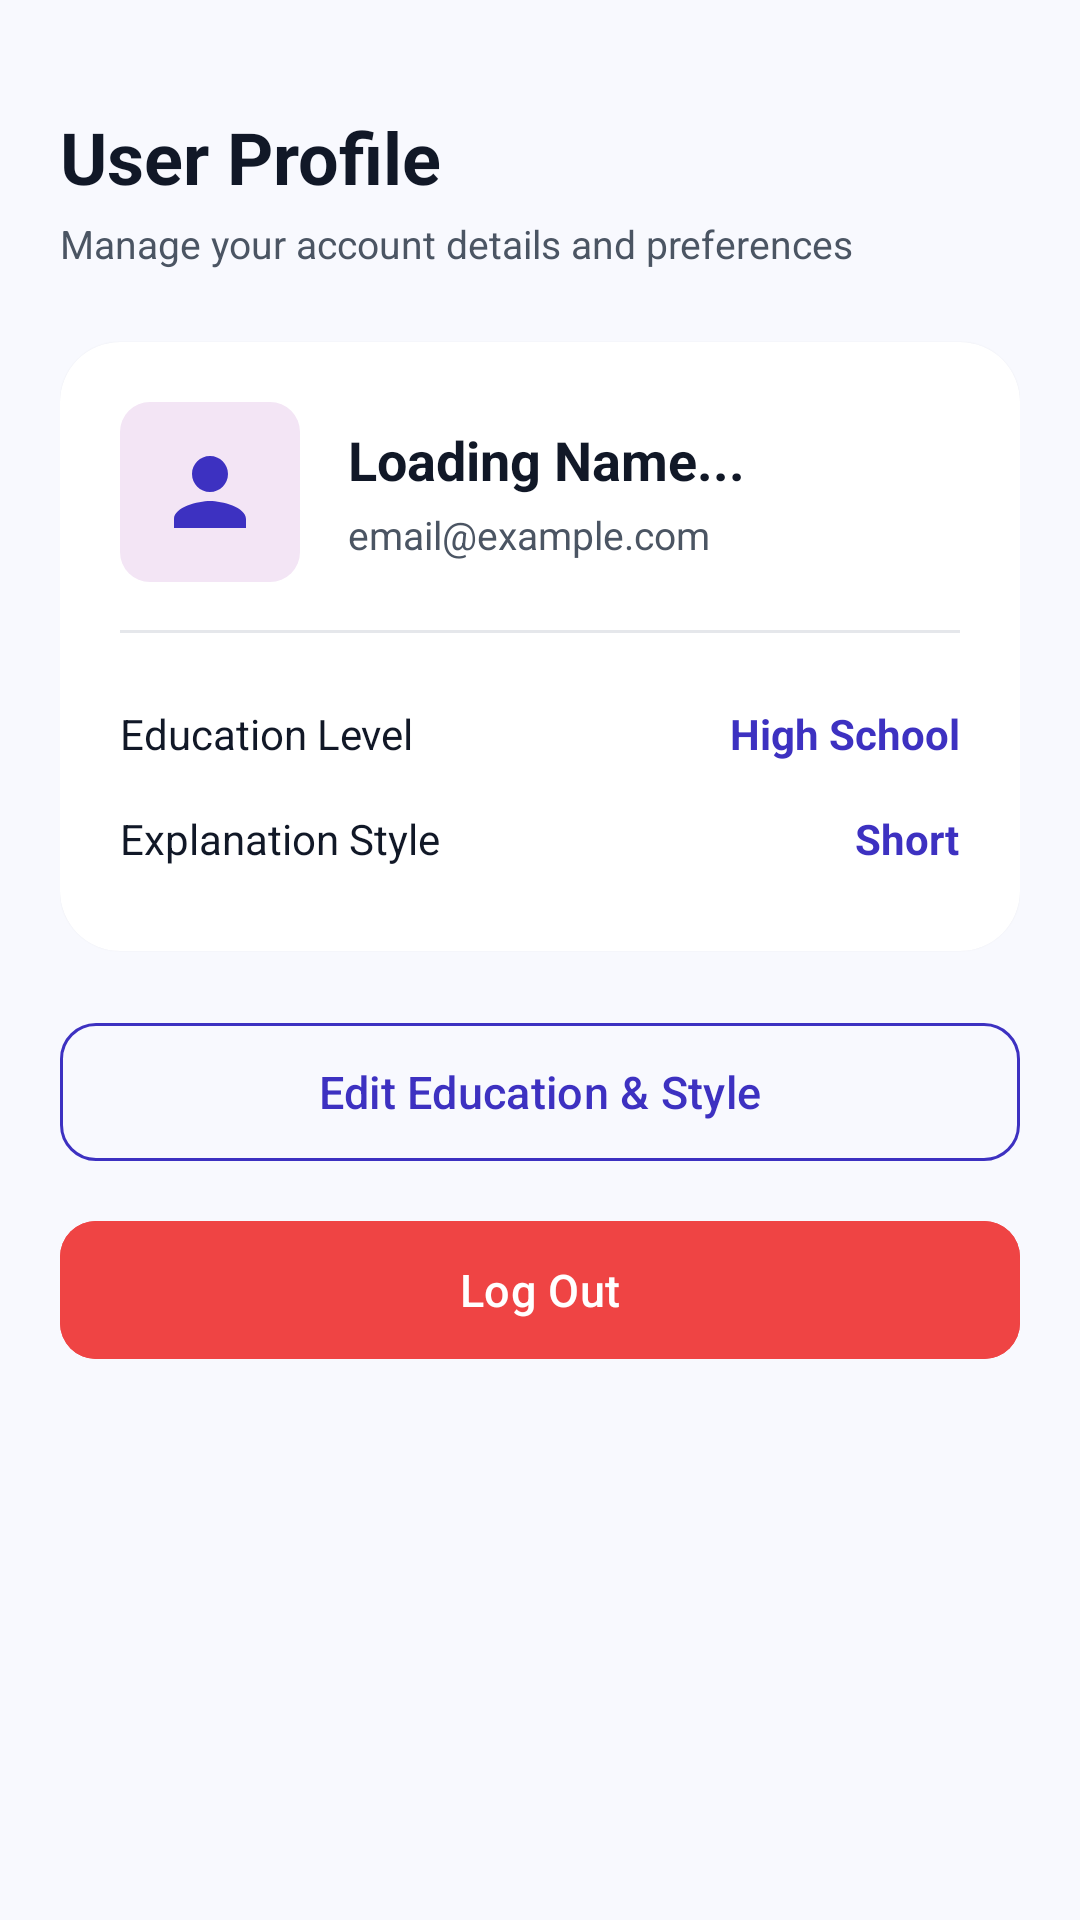

Point at icon controls on the screen. Image size 1080w x 1920h, points as (x,y).
User Avatar: (210,492)
